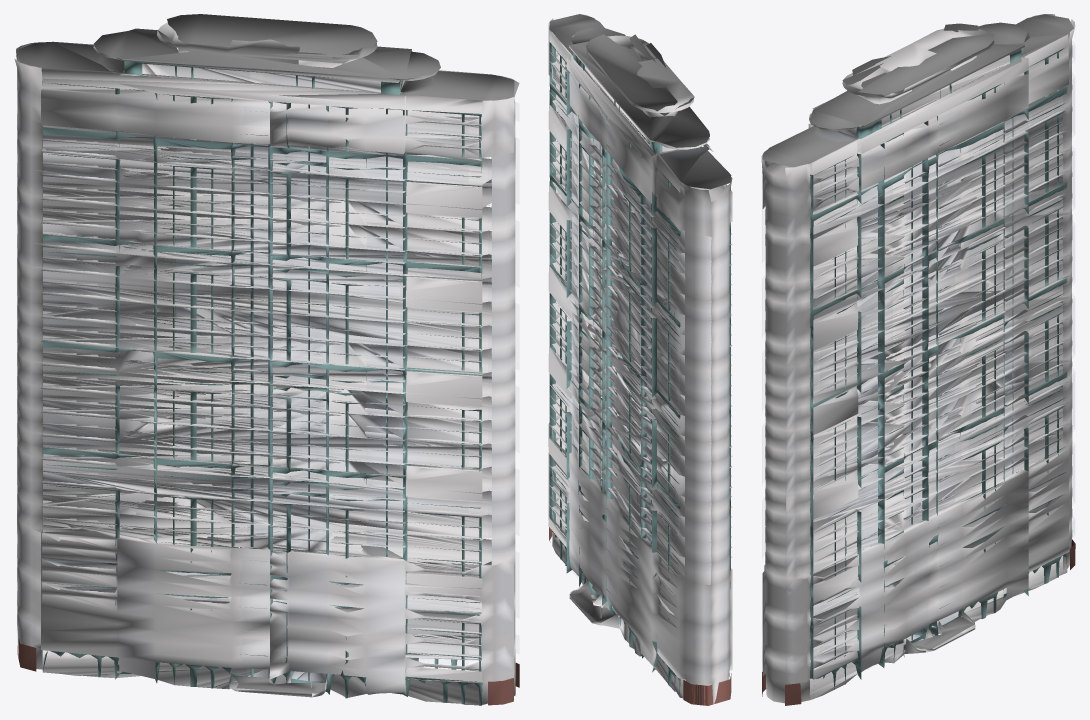
The model's file is building-6.glb.
The picture shows the model from 3 angles, left to right: view 1: azimuth 30°, elevation 25°; view 2: azimuth 150°, elevation 25°; view 3: azimuth 270°, elevation 25°; orthographic projection. The views are drawn at different scales.
Visible parts, largest first — view 1: part_01, part_00, part_03, part_05, part_06; view 2: part_01, part_00, part_05, part_03, part_06; view 3: part_01, part_00, part_03, part_05, part_02, part_06.
Part boxes in pixels (x1,y1,x2,y2): part_01: (14, 22, 519, 705); part_00: (42, 61, 491, 705); part_03: (52, 41, 493, 681); part_05: (16, 14, 514, 693); part_06: (17, 638, 519, 705); part_01: (548, 14, 732, 704); part_00: (549, 42, 730, 694); part_05: (549, 14, 731, 621); part_03: (548, 30, 713, 607); part_06: (549, 527, 731, 705); part_01: (761, 14, 1075, 703); part_00: (770, 48, 1067, 694); part_03: (812, 34, 1068, 679); part_05: (762, 14, 1073, 649); part_02: (1072, 46, 1074, 532); part_06: (762, 539, 1075, 705).
Size of the model in its own units: 550 by 951 by 475.
Materials: 5 (1 with a texture image).
